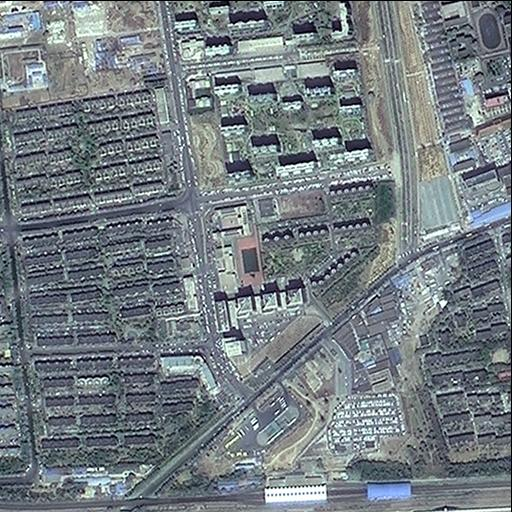school: (201, 201, 263, 289)
